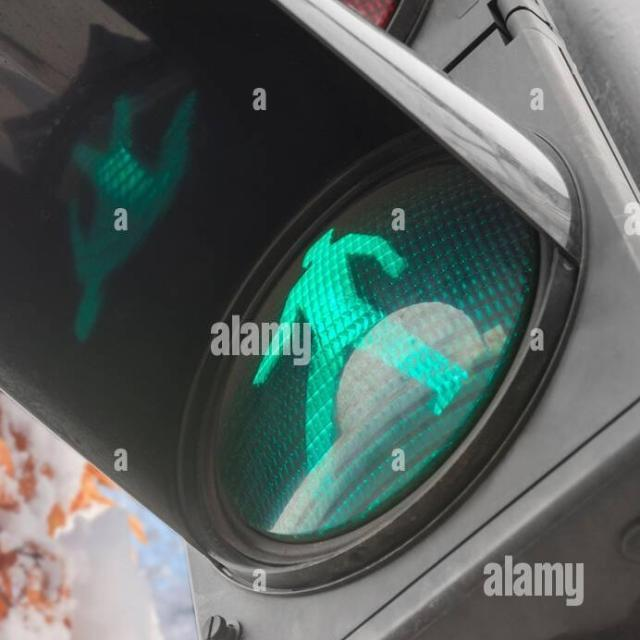geen-crossing: (238, 206, 489, 473)
